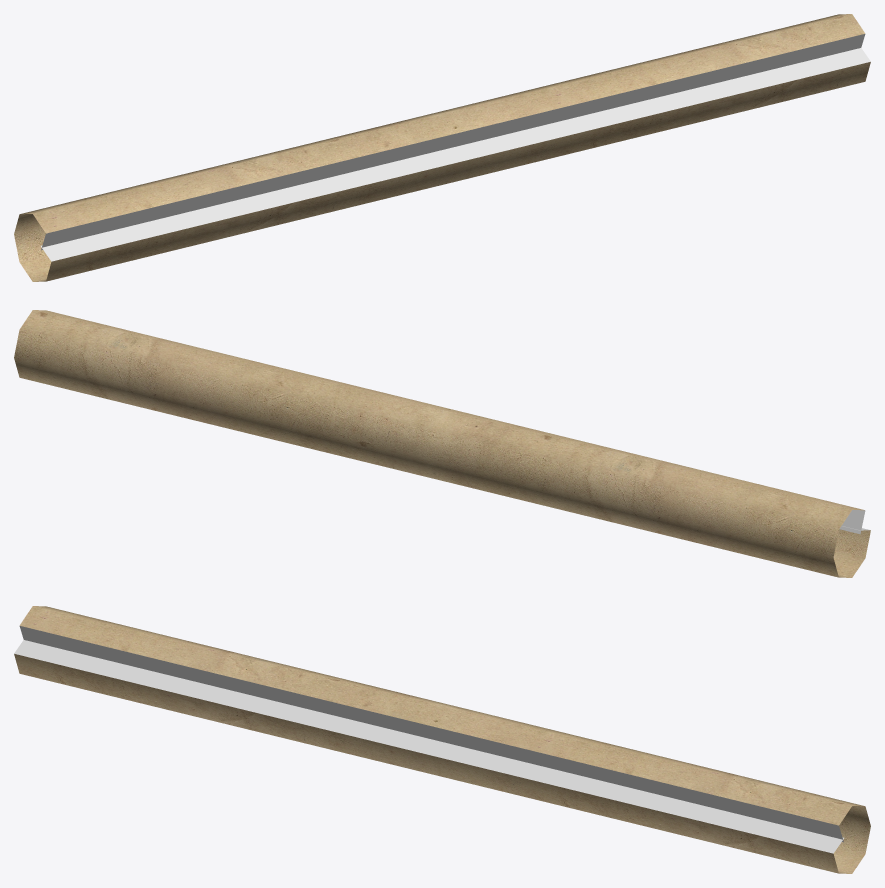
The model's file is Cardboard_Support_03.fbx.
3 renders of one model, top to bottom at view 1: azimuth 30°, elevation 25°; view 2: azimuth 150°, elevation 25°; view 3: azimuth 330°, elevation 25°, orthographic.
Visible parts, largest first — view 1: Cardboard_Support_03; view 2: Cardboard_Support_03; view 3: Cardboard_Support_03.
Boxes of the visible parts, x1=… form: Cardboard_Support_03: x1=14, y1=14, x2=870, y2=281; Cardboard_Support_03: x1=14, y1=310, x2=870, y2=577; Cardboard_Support_03: x1=14, y1=606, x2=870, y2=873.
Size of the model in its own units: 280 by 22.17 by 22.17.
